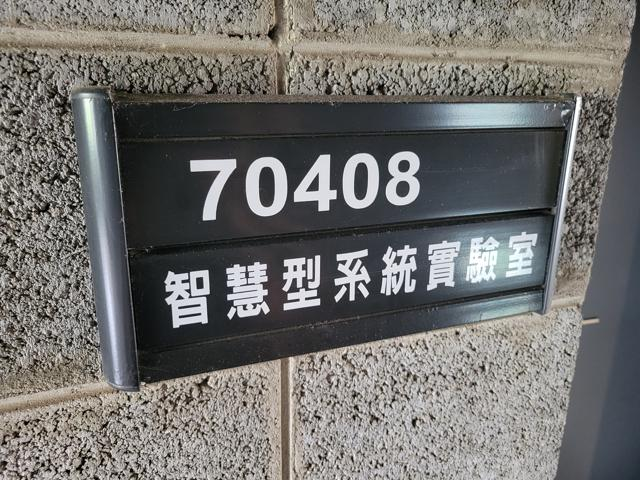doorplate: (62, 71, 597, 401)
